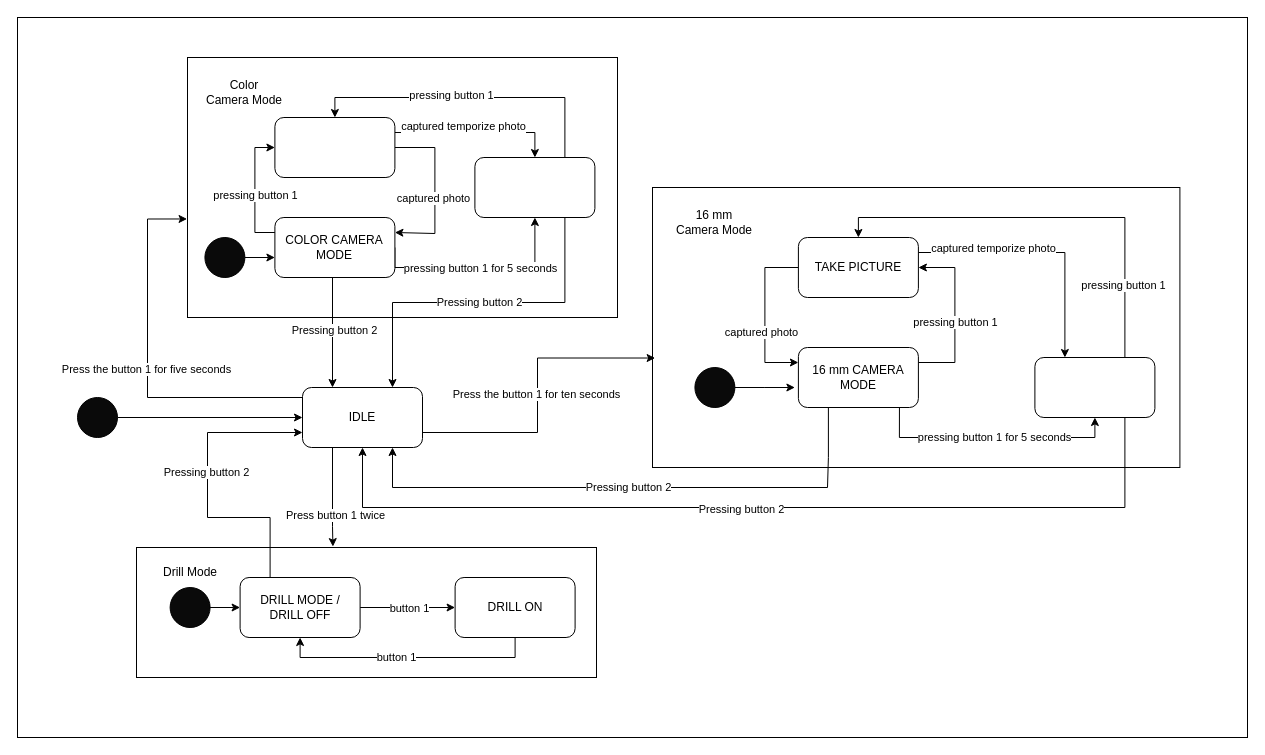
Image size: 1265x755. Some labels were removed from this diagram. The shapes that lost their labels are listed below. From the top down, each one's box as (x1, y1, x2, y2) in pixels, then its label:
(274, 116, 395, 178): TAKE COLOR PICTURE
(474, 156, 595, 218): TEMPORIZE MODE COLOR CAMERA MODE
(1034, 356, 1155, 418): TEMPORIZE MODE 16 mm CAMERA MODE
